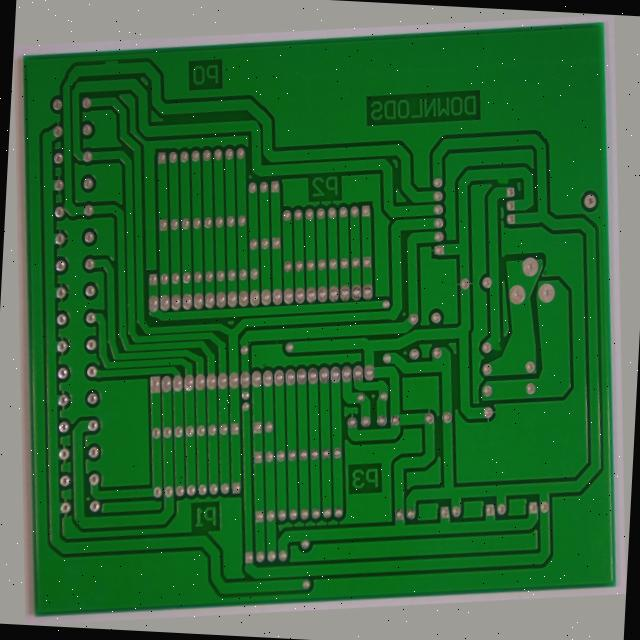spur: (496, 358, 514, 381), (514, 179, 536, 194), (108, 7, 130, 21)
